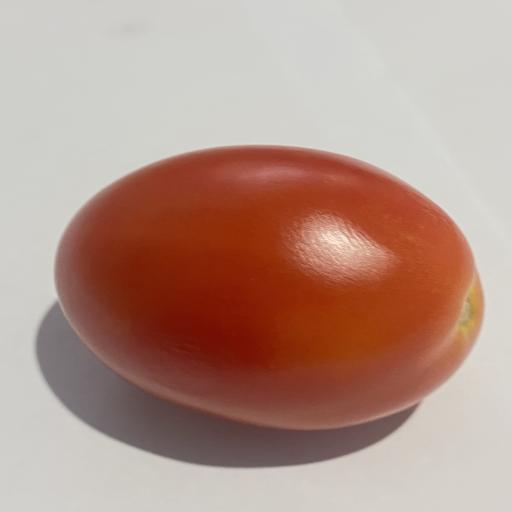ripe: (55, 146, 483, 430)
